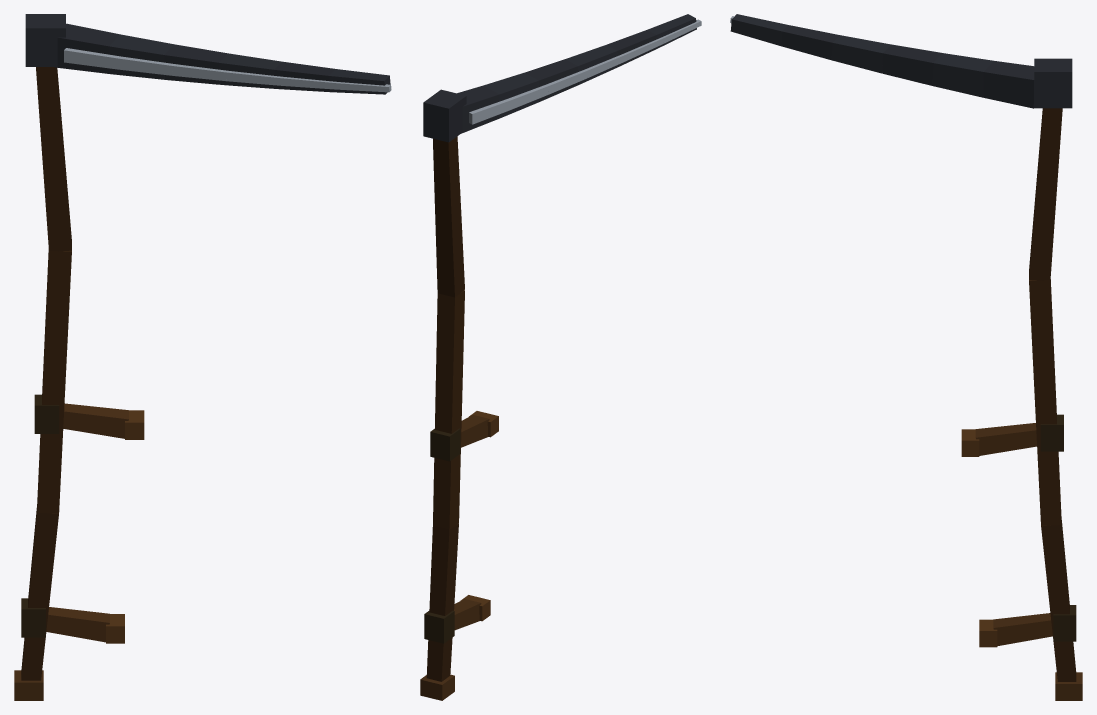
The model's file is ScytheMowing.glb.
The picture shows the model from 3 angles, left to right: view 1: azimuth 90°, elevation 25°; view 2: azimuth 150°, elevation 25°; view 3: azimuth 270°, elevation 25°; orthographic projection. The views are drawn at different scales.
Parts seen in each view (by area): view 1: ScytheMowing; view 2: ScytheMowing; view 3: ScytheMowing.
Boxes of the visible parts, bbox=[...] form: ScytheMowing: bbox=[14, 14, 391, 700]; ScytheMowing: bbox=[420, 14, 701, 700]; ScytheMowing: bbox=[730, 14, 1082, 700].
Bounding box in the file's own units: 0.2808 × 1.32 × 0.6716.
